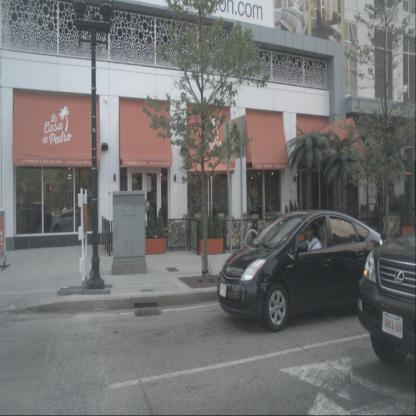vehicle-car: (217, 212, 383, 330), (359, 197, 416, 403), (49, 209, 91, 236), (15, 203, 46, 235), (188, 202, 217, 223)
